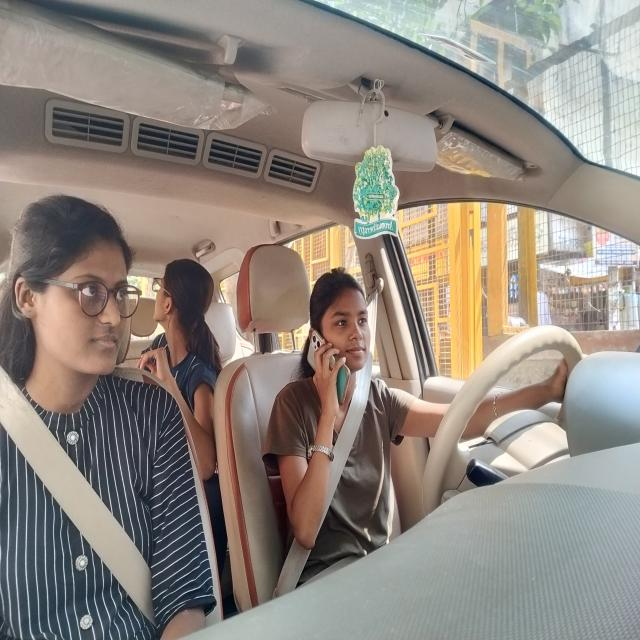mobile: (299, 338, 355, 407)
person: (28, 201, 135, 382), (312, 268, 378, 379), (157, 258, 200, 338)
